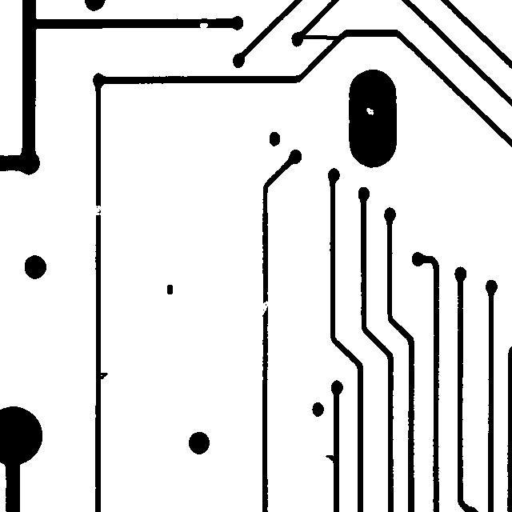copper: (159, 277, 180, 302)
mousebite: (192, 15, 215, 36)
open: (76, 198, 115, 222), (250, 293, 276, 324)
pin-hole: (358, 100, 381, 122)
short: (286, 27, 348, 47)
spur: (318, 447, 345, 471), (89, 365, 115, 386)
